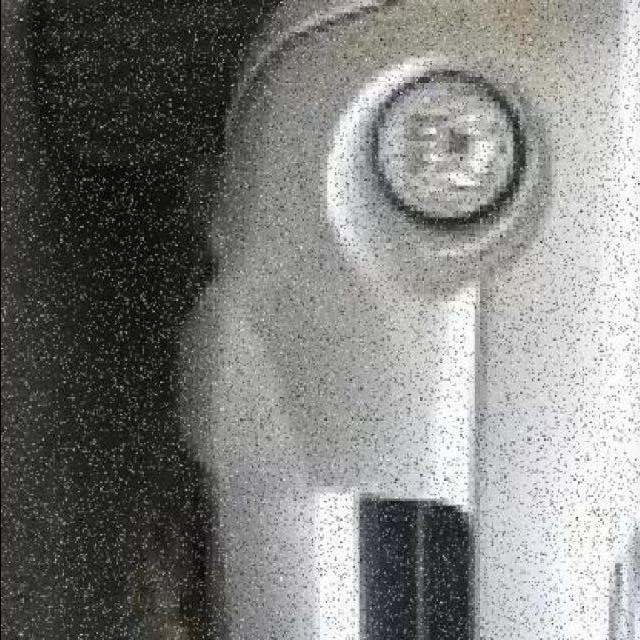front-bumper-dent: (153, 0, 441, 634)
